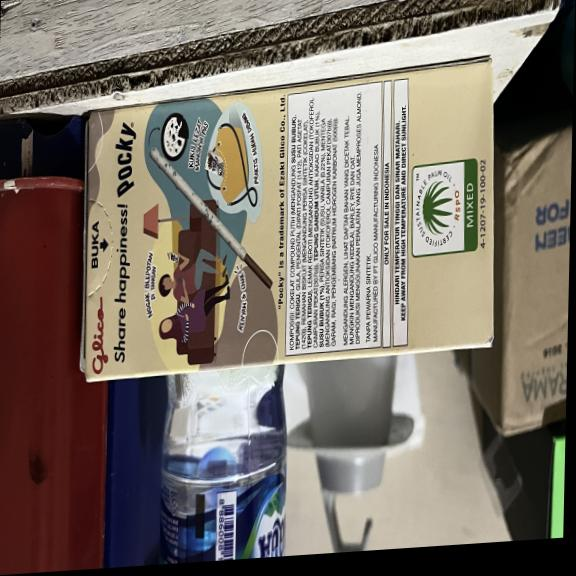Kertas: (85, 55, 493, 382)
